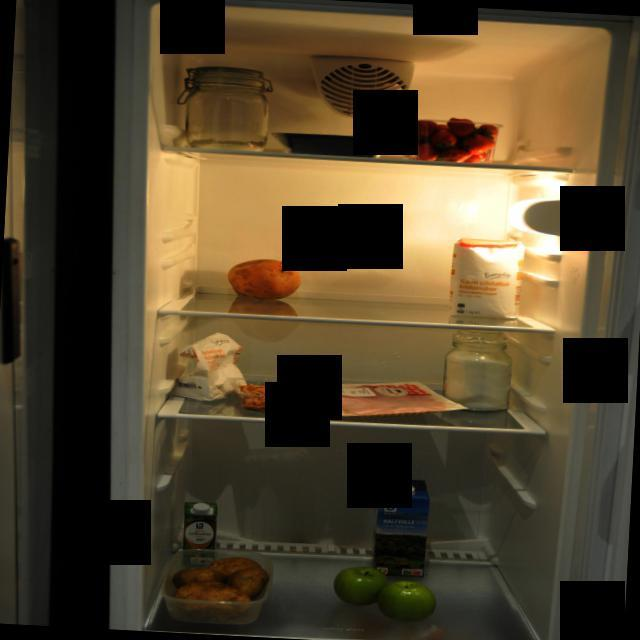Carne cerdo: (310, 374, 470, 424)
Gambas/Langostinos: (243, 380, 322, 416)
Leche: (368, 476, 437, 581)
Manzana: (330, 560, 447, 622)
Patata: (158, 544, 270, 624)
flour: (175, 62, 274, 156), (165, 320, 249, 414)
heavy_cream: (181, 502, 218, 566)
strawberries: (396, 114, 502, 166)
sugar: (448, 236, 526, 322), (440, 326, 515, 414)
sweet_potato: (224, 251, 302, 307)
